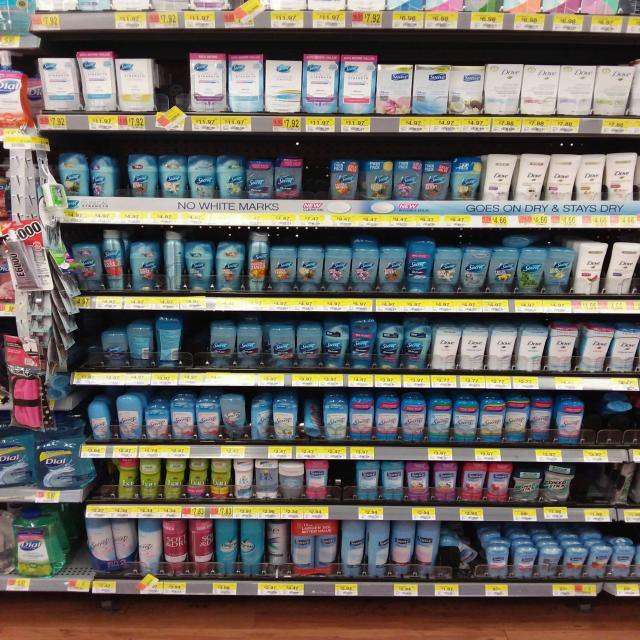unorganised: (483, 150, 549, 204), (129, 315, 182, 369), (342, 519, 390, 575), (160, 225, 187, 293), (549, 151, 579, 208), (440, 532, 482, 572), (87, 153, 116, 199), (266, 520, 290, 572), (218, 152, 243, 199), (248, 400, 271, 441), (301, 395, 322, 438), (540, 545, 562, 578), (599, 396, 629, 420), (501, 236, 530, 248)
